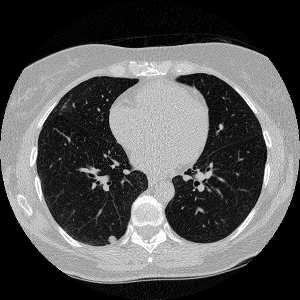nodule: (108, 235, 116, 243)
